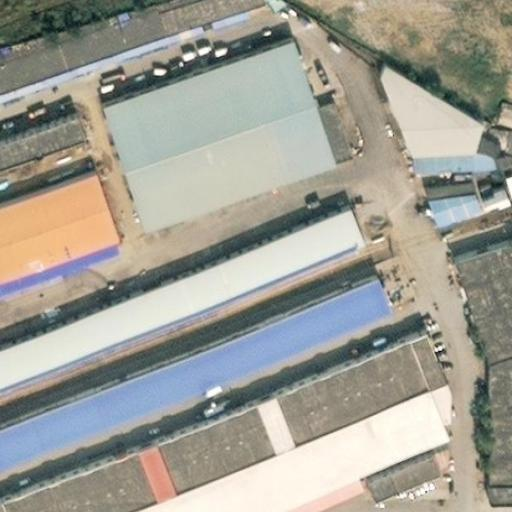building: (0, 310, 446, 512), (0, 258, 383, 444), (0, 190, 354, 359), (93, 20, 330, 211), (0, 152, 117, 269), (370, 45, 486, 154), (483, 345, 512, 484), (0, 96, 78, 146), (358, 431, 435, 478), (417, 165, 473, 207), (310, 84, 344, 148), (469, 161, 512, 192), (468, 110, 496, 134), (486, 484, 512, 504)
